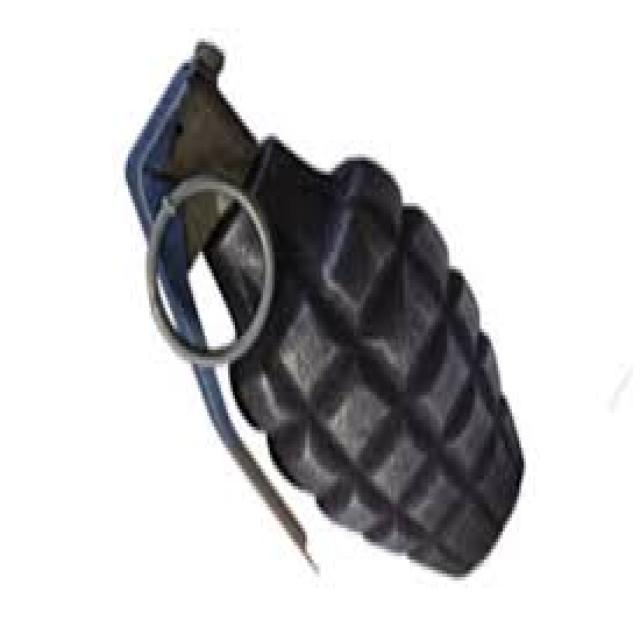grenade: (117, 27, 531, 584)
